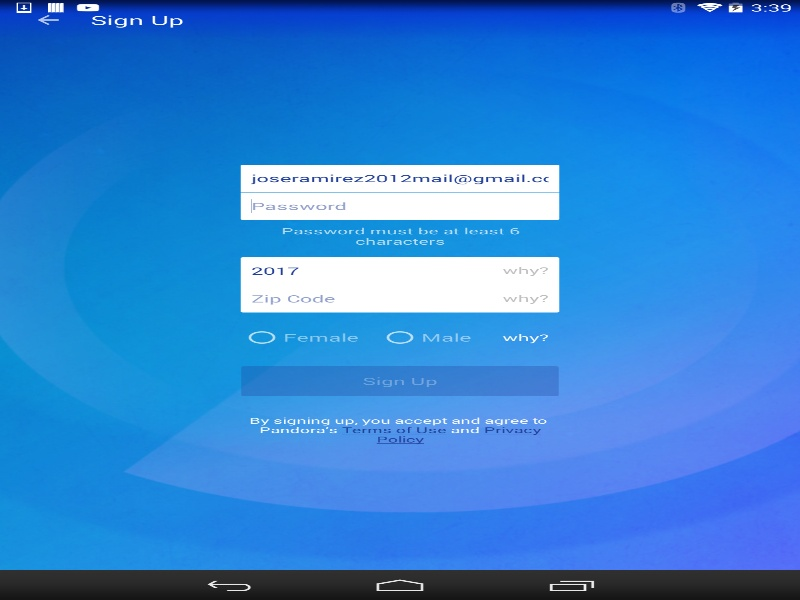Button: (236, 362, 564, 400), (10, 0, 85, 40)
Input: (240, 164, 559, 192), (240, 192, 559, 219), (240, 285, 559, 312)
